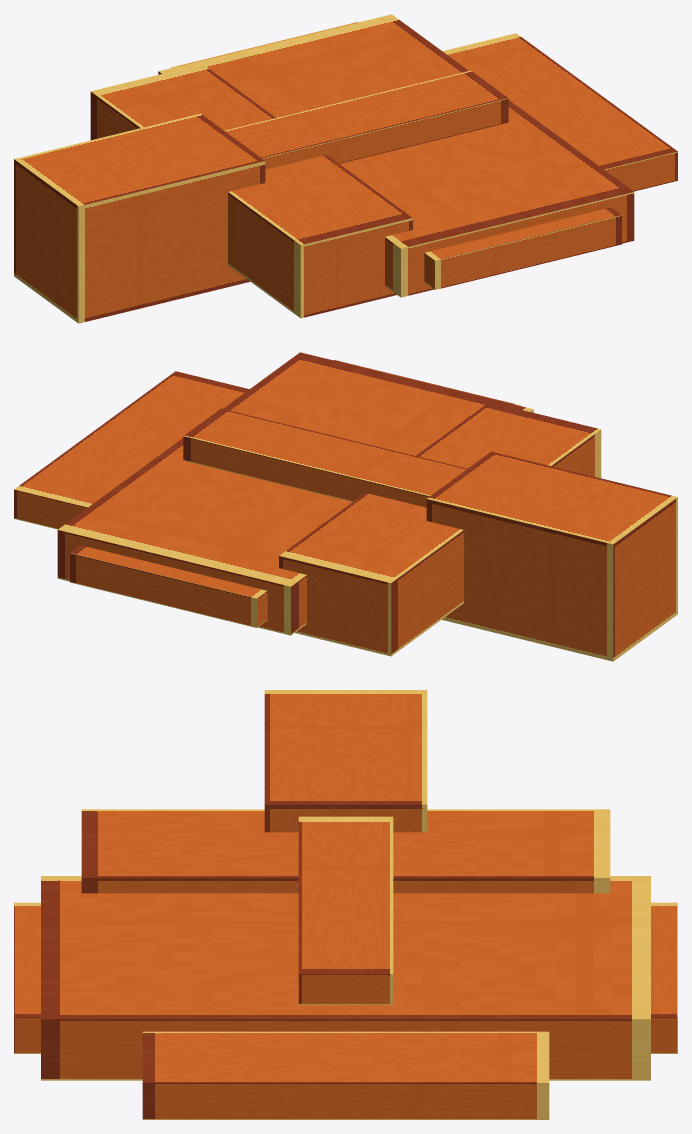
Rendered from bench_shovel_1_hot.obj.
3 views of the same model, one above another, from view 1: azimuth 30°, elevation 25°; view 2: azimuth 150°, elevation 25°; view 3: azimuth 270°, elevation 25° (orthographic). The views are drawn at different scales.
Visible parts, largest first — view 1: geometry; view 2: geometry; view 3: geometry.
Part boxes in pixels (x1,y1,x2,y2): geometry: (14, 14, 677, 323); geometry: (14, 352, 677, 661); geometry: (14, 690, 677, 1119).
Size of the model in its own units: 0.75 by 0.1525 by 0.6229.
